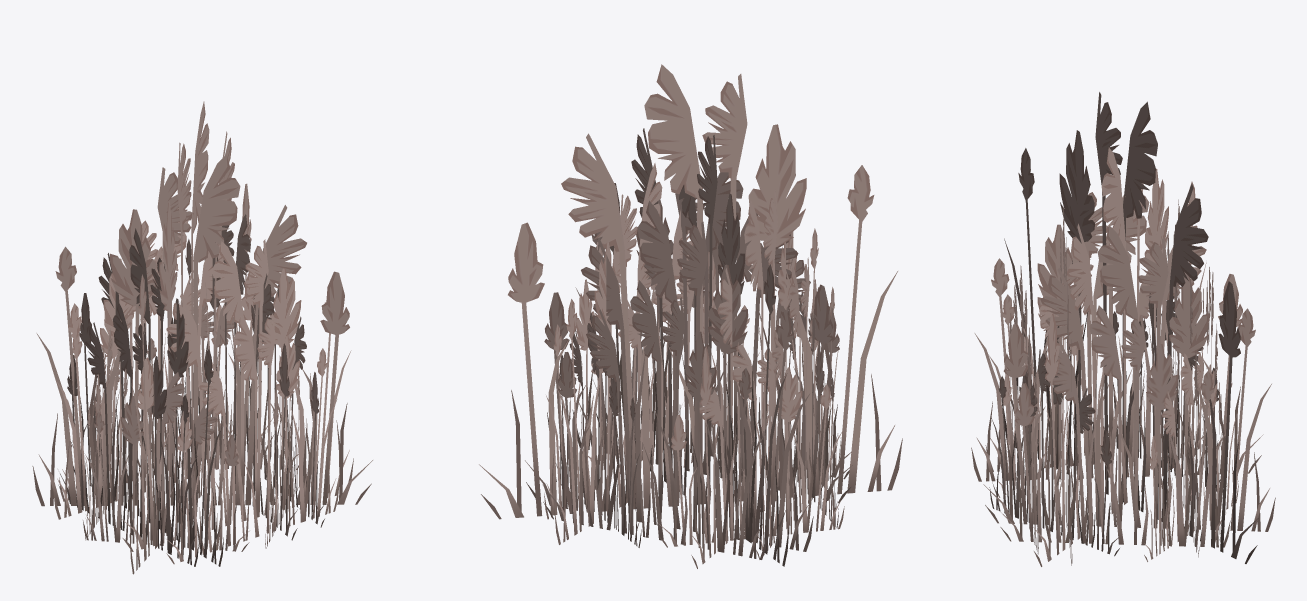
Rendered from SM_Sea_Reeds_005.fbx.
3 views of the same model, side by side, from view 1: azimuth 30°, elevation 25°; view 2: azimuth 150°, elevation 25°; view 3: azimuth 270°, elevation 25° (orthographic). The views are drawn at different scales.
Visible parts, largest first — view 1: SM_Sea_Reeds_005; view 2: SM_Sea_Reeds_005; view 3: SM_Sea_Reeds_005.
Part boxes in pixels (<box>): SM_Sea_Reeds_005: <box>32,101,372,574</box>; SM_Sea_Reeds_005: <box>479,64,902,568</box>; SM_Sea_Reeds_005: <box>971,92,1275,566</box>.
Bounding box in the file's own units: 100 × 128 × 93.48.
